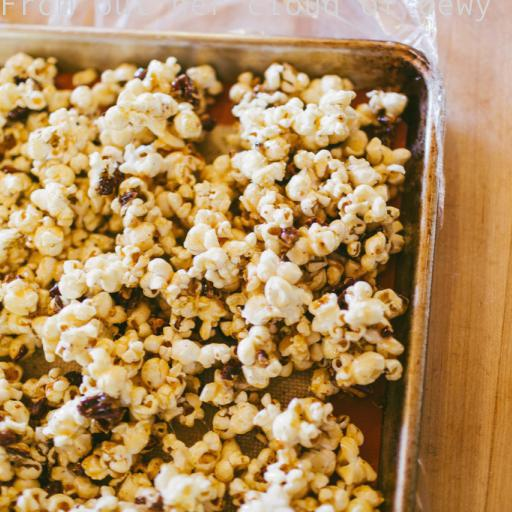Andale Mono: (0, 0, 512, 22)
